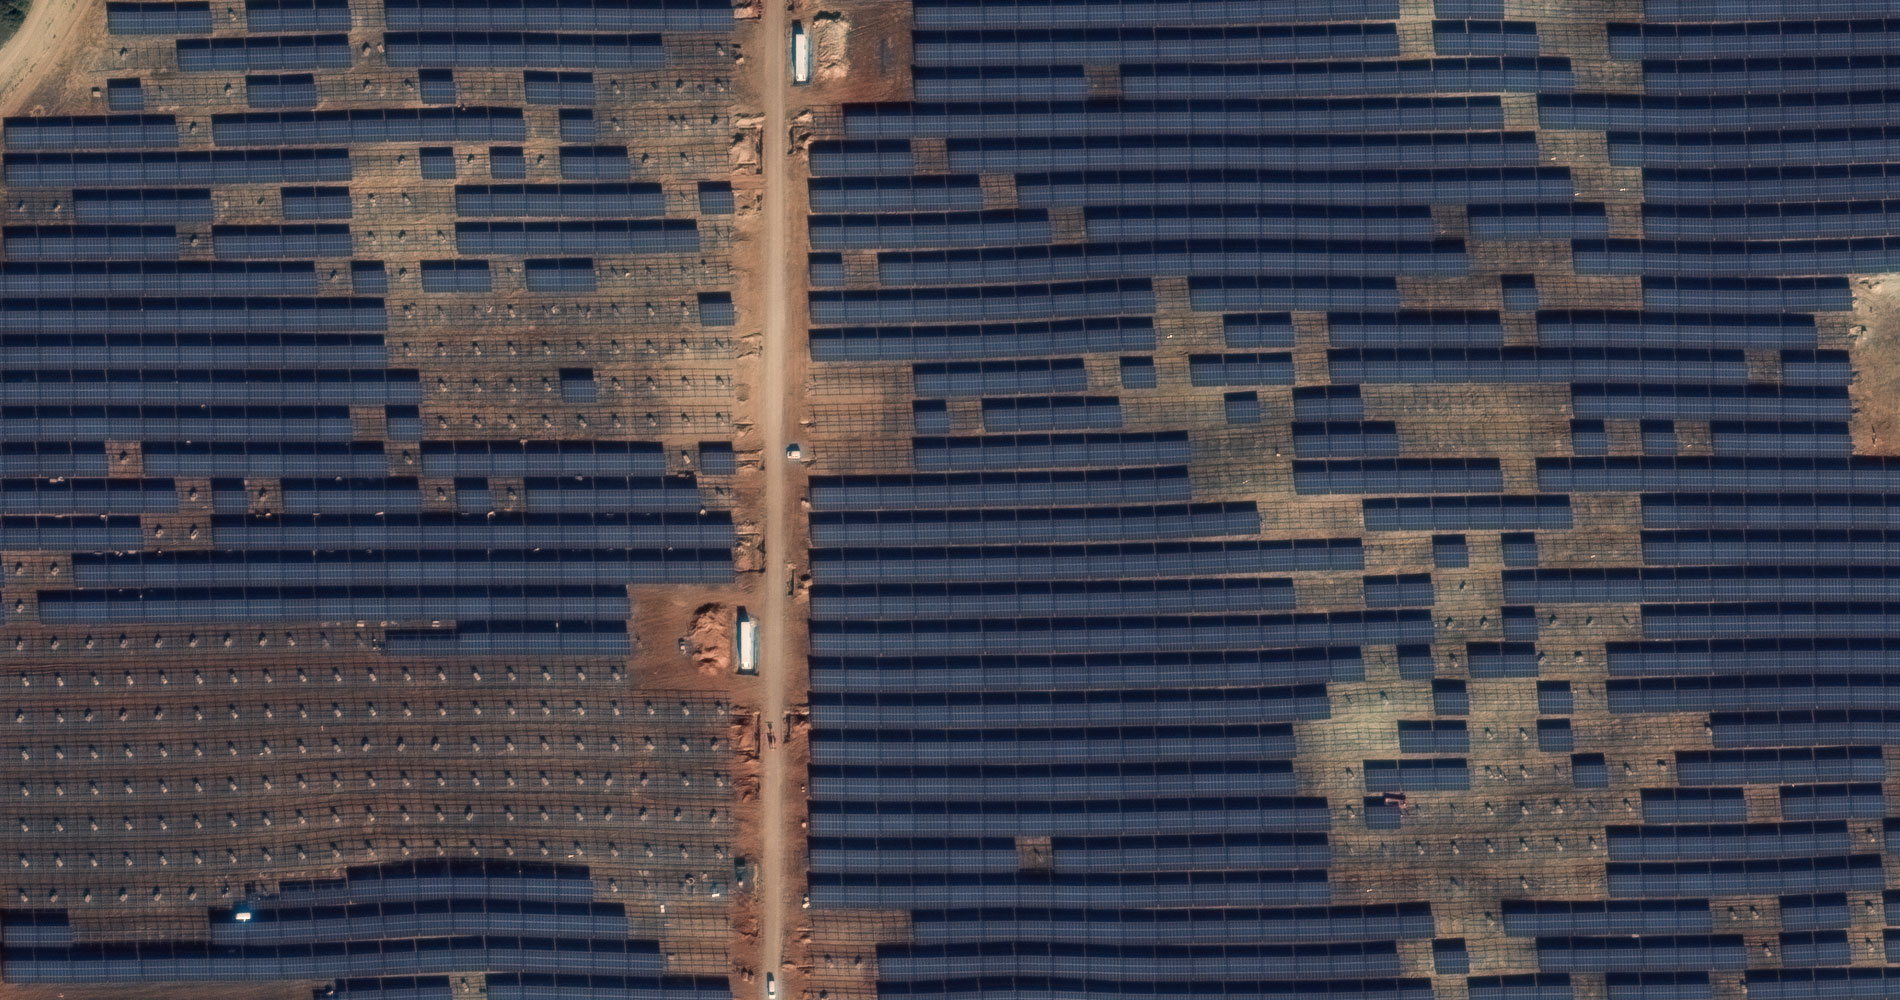solar-panel: (813, 486, 1338, 982), (1639, 9, 1900, 984), (915, 8, 1544, 379), (5, 237, 392, 487), (18, 514, 630, 651), (178, 894, 680, 987), (429, 178, 718, 283), (4, 109, 352, 192), (425, 448, 699, 513), (237, 4, 738, 36), (112, 10, 234, 65), (1370, 503, 1570, 534), (1363, 582, 1433, 651), (1436, 945, 1495, 982)
